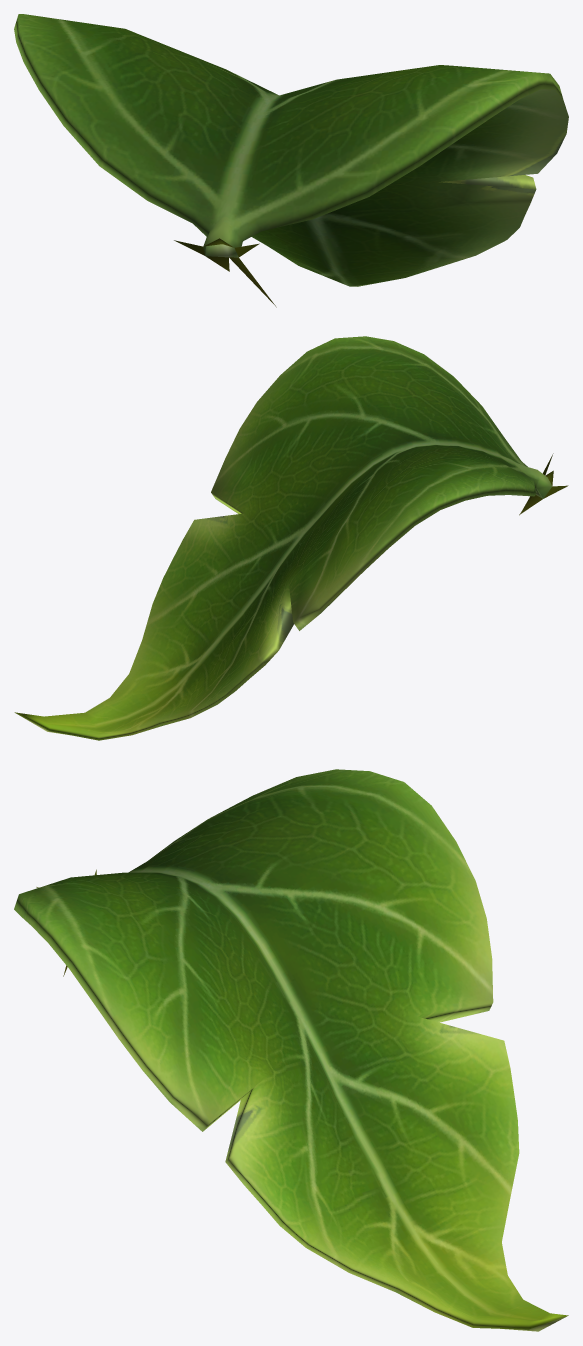
File: peashooter_hoja_tras_izq.obj
The picture shows the model from 3 angles, top to bottom: view 1: azimuth 30°, elevation 25°; view 2: azimuth 150°, elevation 25°; view 3: azimuth 270°, elevation 25°; orthographic projection. The views are drawn at different scales.
Visible parts, largest first — view 1: peashooter_hoja_tras_izq; view 2: peashooter_hoja_tras_izq; view 3: peashooter_hoja_tras_izq.
Part boxes in pixels (x1,y1,x2,y2): peashooter_hoja_tras_izq: (14, 14, 568, 307); peashooter_hoja_tras_izq: (14, 336, 568, 740); peashooter_hoja_tras_izq: (14, 769, 568, 1331).
Size of the model in its own units: 0.3794 by 0.2728 by 0.3793.
